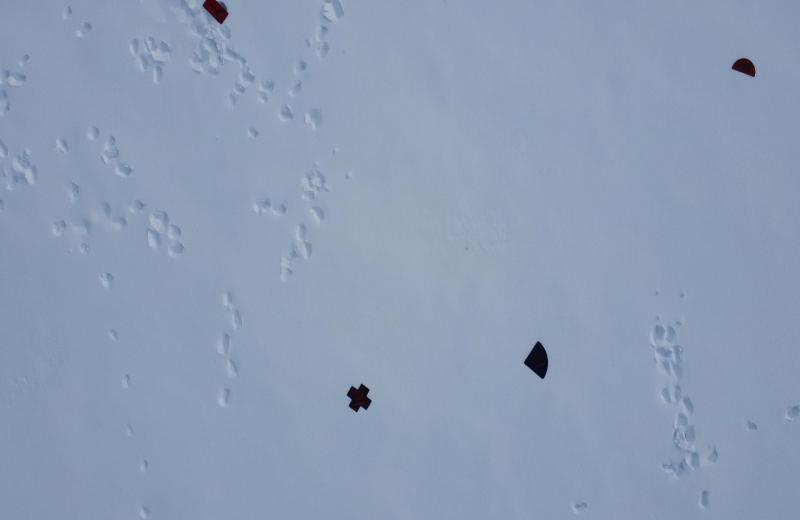Cross: (342, 377, 376, 419)
Quarter Circle: (521, 335, 552, 386)
Rectangle: (197, 0, 235, 29)
Semi Circle: (726, 52, 761, 78)
